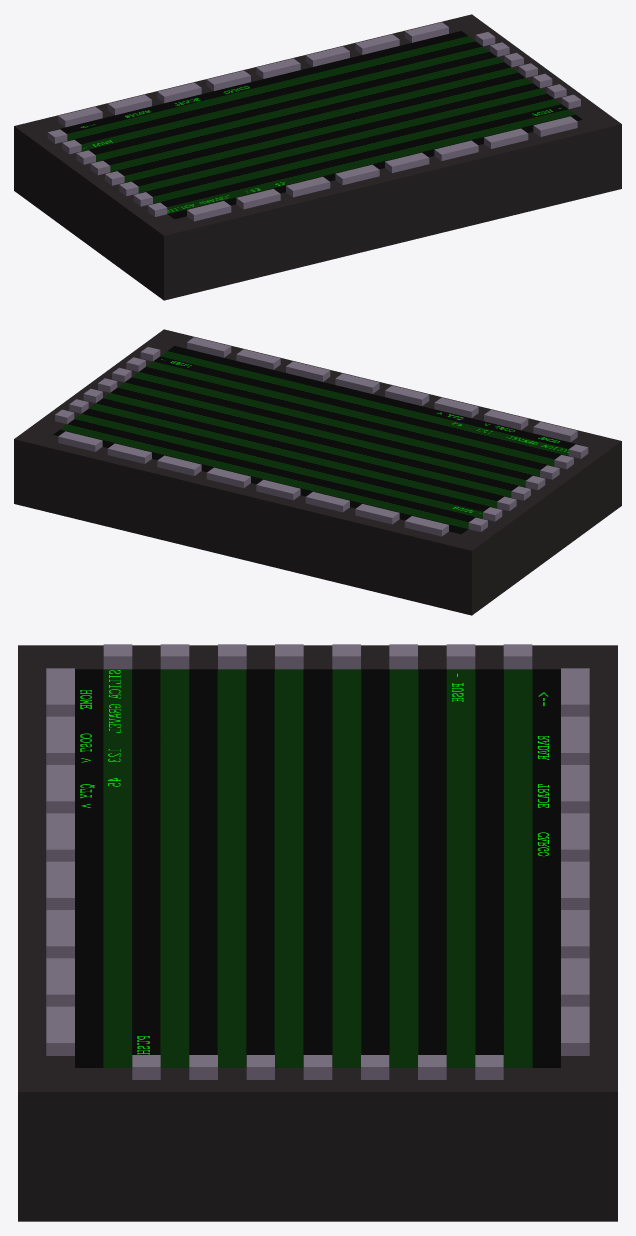
Rendered from flight computer.glb.
3 renders of one model, top to bottom at view 1: azimuth 30°, elevation 25°; view 2: azimuth 150°, elevation 25°; view 3: azimuth 270°, elevation 25°, orthographic. The views are drawn at different scales.
Visible parts, largest first — view 1: enclosure, display, B3, T2, T4, T0, T3, T5, T6, T7, B2, B7 (+6 smaller); view 2: enclosure, display, T3, B2, B4, T2, T7, B0, B3, B5, B6, B7 (+6 smaller); view 3: display, enclosure, T7, B7, T0, T1, T2, T3, T4, T5, T6, B0 (+10 smaller).
Part boxes in pixels (box(x1,y1,x2,y2)): enclosure: box(14, 14, 621, 300); display: box(53, 31, 582, 219); B3: box(335, 164, 379, 185); T2: box(157, 82, 201, 103); T4: box(256, 58, 300, 78); T0: box(58, 106, 102, 127); T3: box(206, 70, 250, 90); T5: box(305, 46, 349, 66); T6: box(355, 34, 399, 54); T7: box(404, 22, 448, 42); B2: box(286, 176, 330, 197); B7: box(533, 116, 577, 136); enclosure: box(14, 329, 621, 615); display: box(53, 346, 582, 534); T3: box(256, 479, 300, 500); B2: box(434, 397, 478, 418); B4: box(335, 373, 379, 393); T2: box(305, 491, 349, 512); T7: box(58, 431, 102, 451); B0: box(533, 421, 577, 442); B3: box(385, 385, 429, 405); B5: box(286, 361, 330, 381); B6: box(236, 349, 280, 369); B7: box(187, 337, 231, 357); display: box(75, 669, 560, 1067); enclosure: box(18, 645, 617, 1221); T7: box(561, 1006, 589, 1055); B7: box(46, 1006, 74, 1055); T0: box(561, 668, 589, 716); T1: box(561, 716, 589, 764); T2: box(561, 765, 589, 813); T3: box(561, 813, 589, 861); T4: box(561, 861, 589, 909); T5: box(561, 910, 589, 958); T6: box(561, 958, 589, 1006); B0: box(46, 668, 74, 716).
Bounding box in the file's own units: 0.37 × 0.055 × 0.21.
3 materials, 1 textured.
